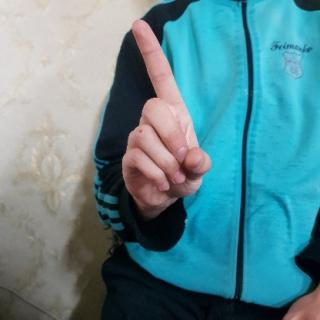BAA: (122, 16, 212, 220)
